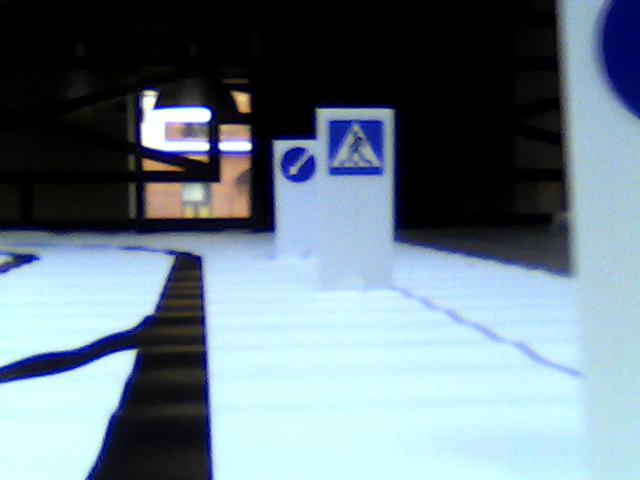pesh: (327, 120, 387, 174)
prep: (280, 146, 314, 182)
